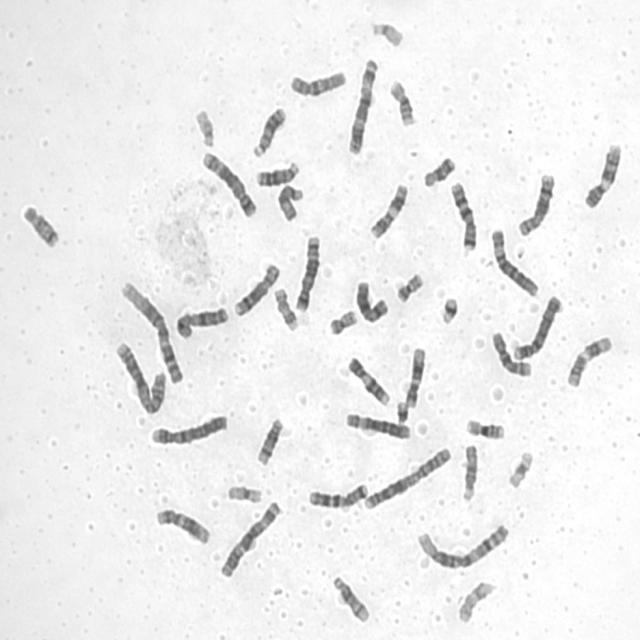A1: (116, 276, 186, 386), (412, 518, 512, 572)
A2: (360, 442, 453, 512), (111, 336, 167, 416)
A3: (216, 496, 284, 579), (344, 54, 379, 156)
B4: (510, 290, 564, 362), (146, 410, 229, 448)
B5: (198, 146, 259, 219), (291, 230, 322, 313)
C10: (488, 328, 534, 378), (286, 65, 348, 99)
C11: (563, 331, 614, 388), (366, 179, 410, 241)
C12: (152, 504, 212, 546), (401, 343, 427, 409)
C6: (487, 223, 541, 299), (341, 408, 413, 441)
C7: (446, 177, 479, 254), (304, 478, 370, 511)
C8: (230, 258, 282, 318), (514, 169, 558, 237)
C9: (580, 138, 623, 209), (345, 353, 391, 407)
D13: (249, 102, 288, 159), (252, 156, 300, 188)
D14: (328, 571, 372, 624), (253, 413, 285, 466)
D15: (458, 440, 480, 503), (274, 180, 304, 223)
E16: (386, 76, 417, 128), (462, 414, 506, 441)
E17: (454, 577, 496, 625), (271, 284, 299, 332)
E18: (18, 200, 60, 249), (420, 152, 457, 188)
F19: (504, 446, 534, 491), (223, 480, 264, 504)
F20: (392, 268, 425, 304), (326, 305, 359, 337)
G21: (436, 293, 460, 326), (393, 396, 410, 425)
G22: (368, 16, 404, 48), (191, 104, 216, 149)
X: (172, 302, 230, 340), (352, 276, 390, 324)
